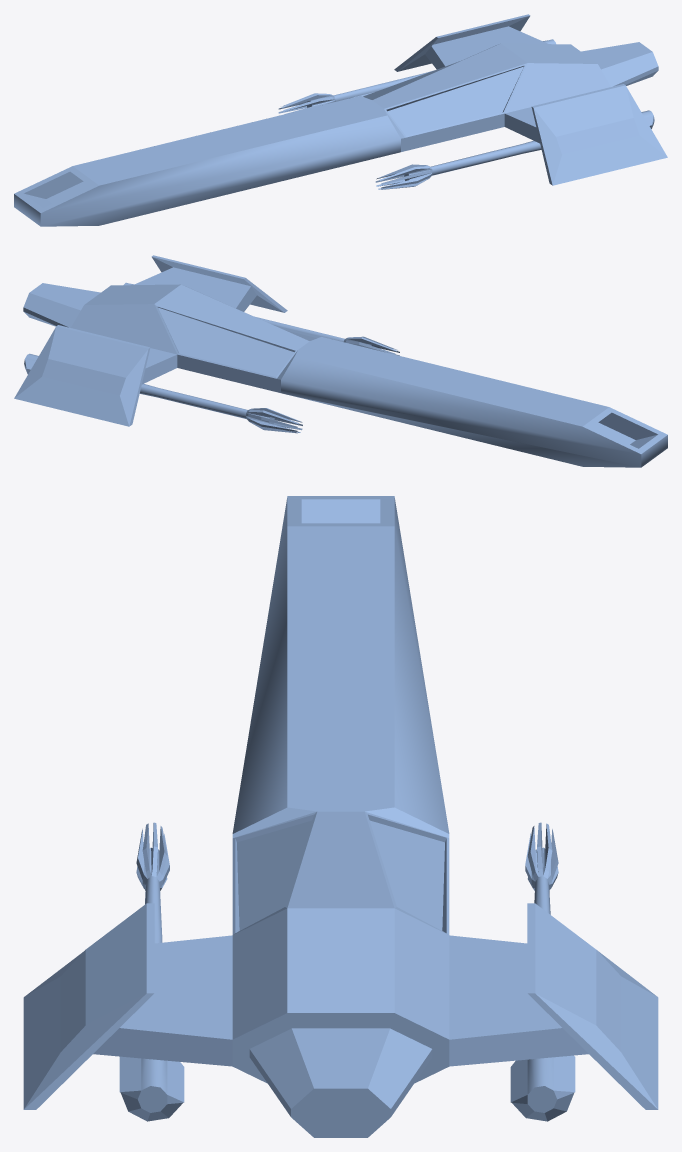
Rendered from SHIP N DALE RESCUE SLANGERS.obj.
3 renders of one model, top to bottom at view 1: azimuth 30°, elevation 25°; view 2: azimuth 150°, elevation 25°; view 3: azimuth 270°, elevation 25°, orthographic. The views are drawn at different scales.
Visible parts, largest first — view 1: Box001; view 2: Box001; view 3: Box001.
Boxes of the visible parts, box(x1,y1,x2,y2) form: Box001: box(14, 14, 667, 226); Box001: box(14, 255, 667, 467); Box001: box(23, 496, 658, 1137).
Size of the model in its own units: 419 by 42.95 by 186.
